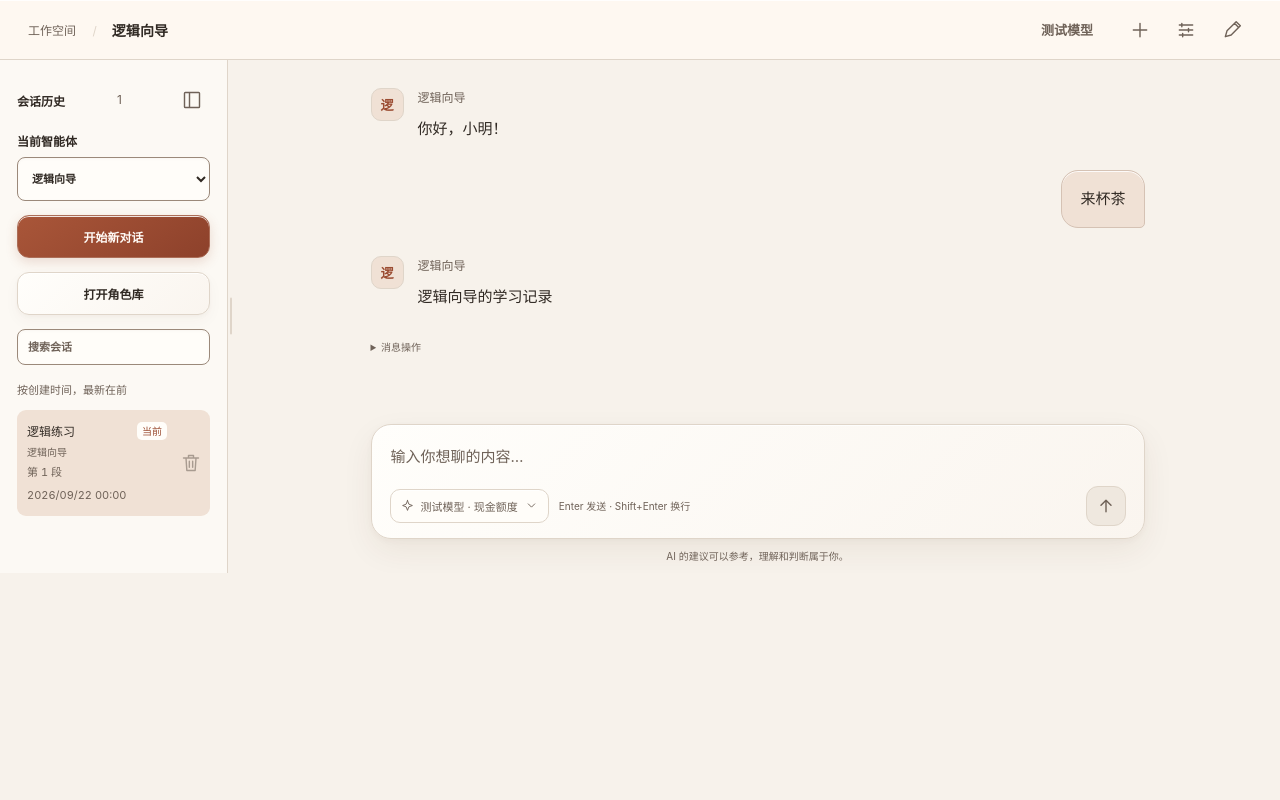
does not replay another role pending creation when selecting an unused role
Expected: the text "逻辑向导的学习记录" is shown, [418,286,552,306]
Select "阅读伙伴" in the dropdown at (114, 179), box [17,157,210,201]
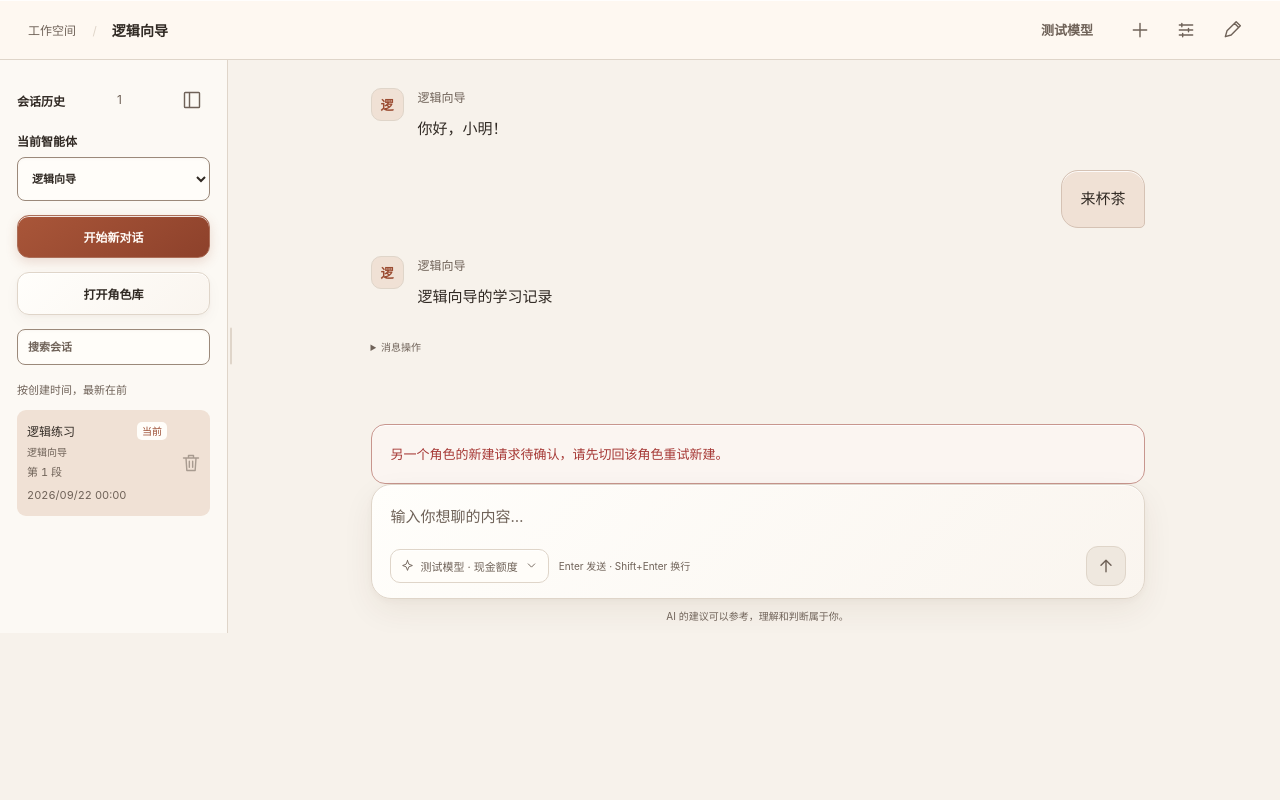
Expected: the text "逻辑向导的学习记录" is shown, [418,286,552,306]
Result: the text "另一个角色的新建请求待确认，请先切回该角色重试新建。" is shown at [370,424,1144,484]
Click the button "开始新对话" at (114, 236), box [17,215,210,258]
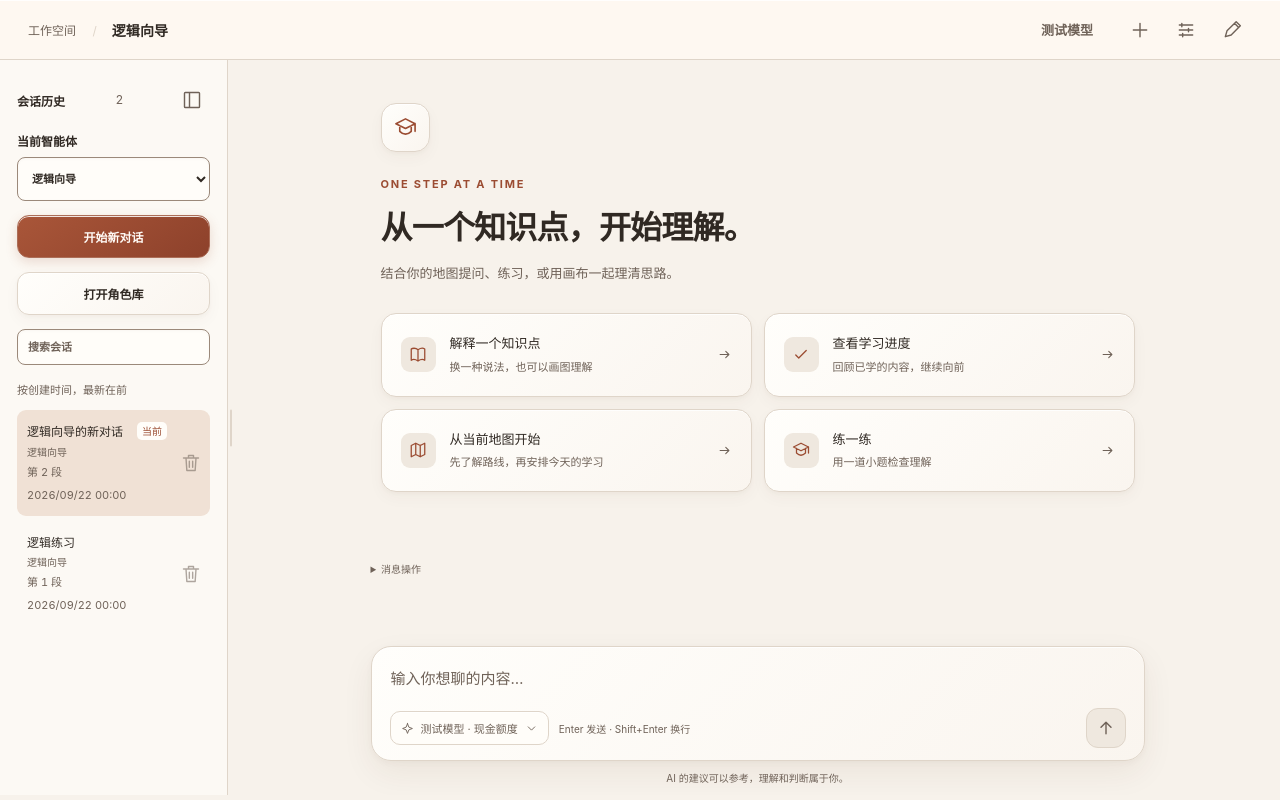
Select "阅读伙伴" in the dropdown at (114, 179), box [17,157,210,201]
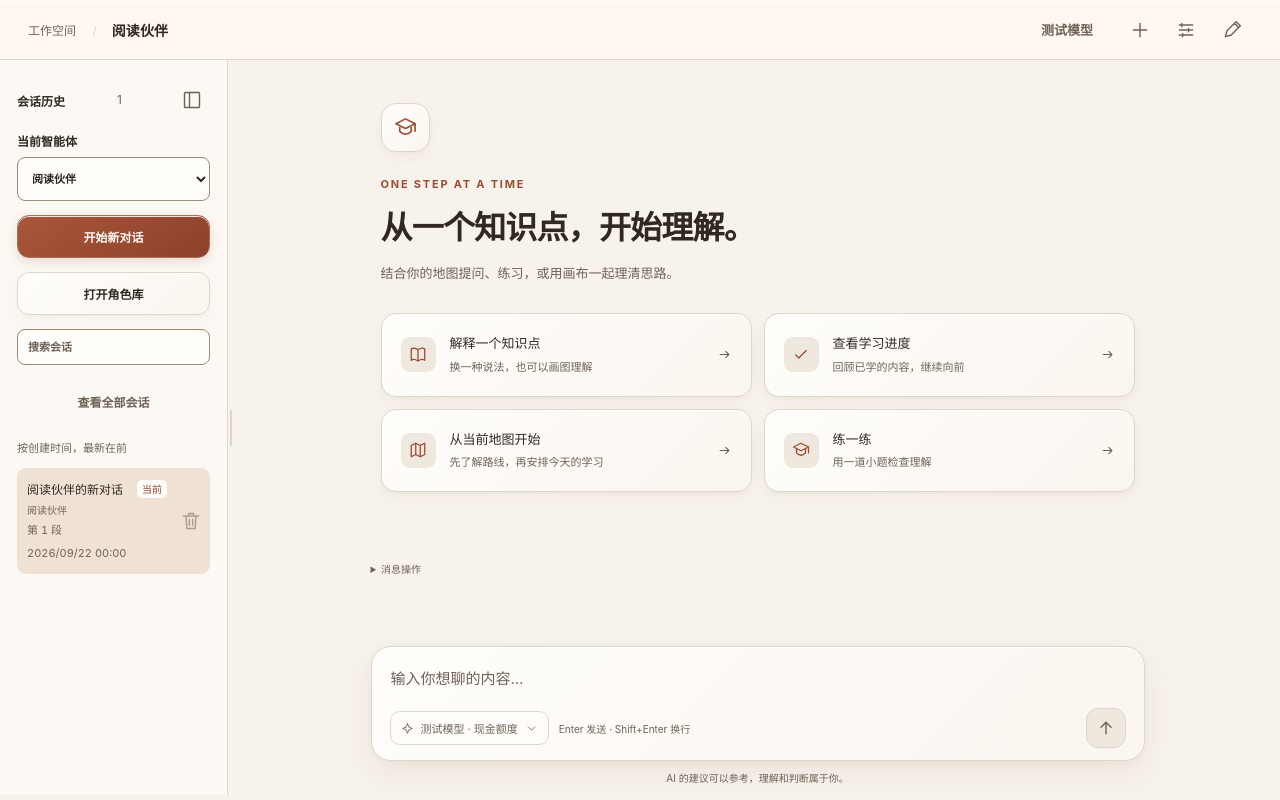
Result: the heading "阅读伙伴" is shown at [112,20,168,40]
